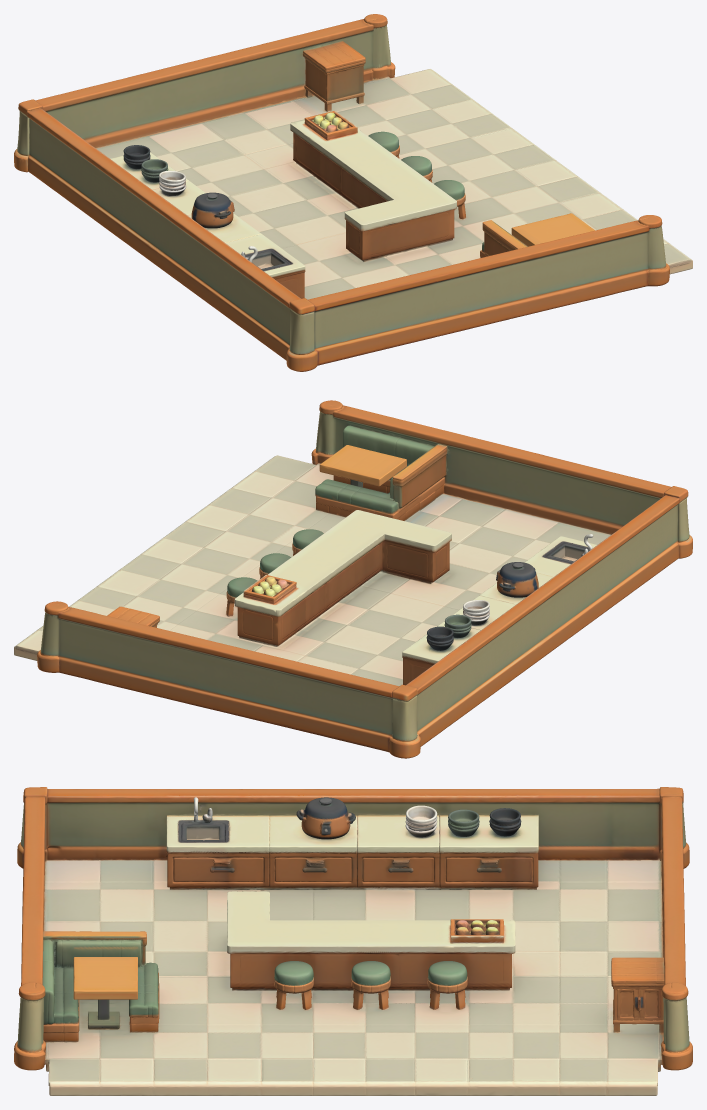
The model's file is sushi-room-v7.glb.
The picture shows the model from 3 angles, top to bottom: view 1: azimuth 30°, elevation 25°; view 2: azimuth 150°, elevation 25°; view 3: azimuth 270°, elevation 25°; orthographic projection. The views are drawn at different scales.
Parts seen in each view (by area): view 1: tripo_node_a3a16fa9-78f9-4142-bdfb-e2b08369d9fc; view 2: tripo_node_a3a16fa9-78f9-4142-bdfb-e2b08369d9fc; view 3: tripo_node_a3a16fa9-78f9-4142-bdfb-e2b08369d9fc.
Part boxes in pixels (x1=…): tripo_node_a3a16fa9-78f9-4142-bdfb-e2b08369d9fc: x1=14, y1=14, x2=692, y2=371; tripo_node_a3a16fa9-78f9-4142-bdfb-e2b08369d9fc: x1=14, y1=400, x2=692, y2=758; tripo_node_a3a16fa9-78f9-4142-bdfb-e2b08369d9fc: x1=14, y1=787, x2=692, y2=1095.
Size of the model in its own units: 5.66 by 1 by 6.92.
1 material, 1 textured.
